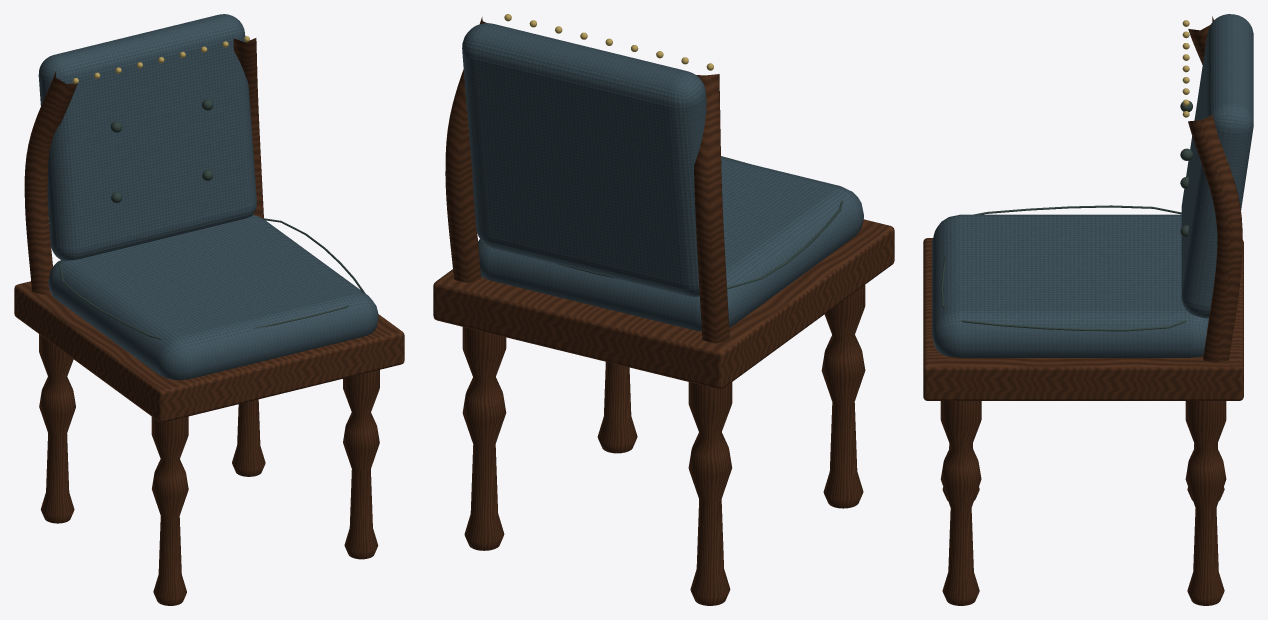
Rendered from upholstered-chair.glb.
The picture shows the model from 3 angles, left to right: view 1: azimuth 30°, elevation 25°; view 2: azimuth 150°, elevation 25°; view 3: azimuth 270°, elevation 25°; orthographic projection. The views are drawn at different scales.
Parts seen in each view (by area): view 1: upholstered-chair; view 2: upholstered-chair; view 3: upholstered-chair.
Part boxes in pixels (box(x1,y1,x2,y2)): upholstered-chair: box(14, 14, 404, 605); upholstered-chair: box(433, 14, 894, 605); upholstered-chair: box(923, 14, 1253, 605).
Bounding box in the file's own units: 0.56 × 0.98 × 0.6.
Materials: 4 (3 with a texture image).
